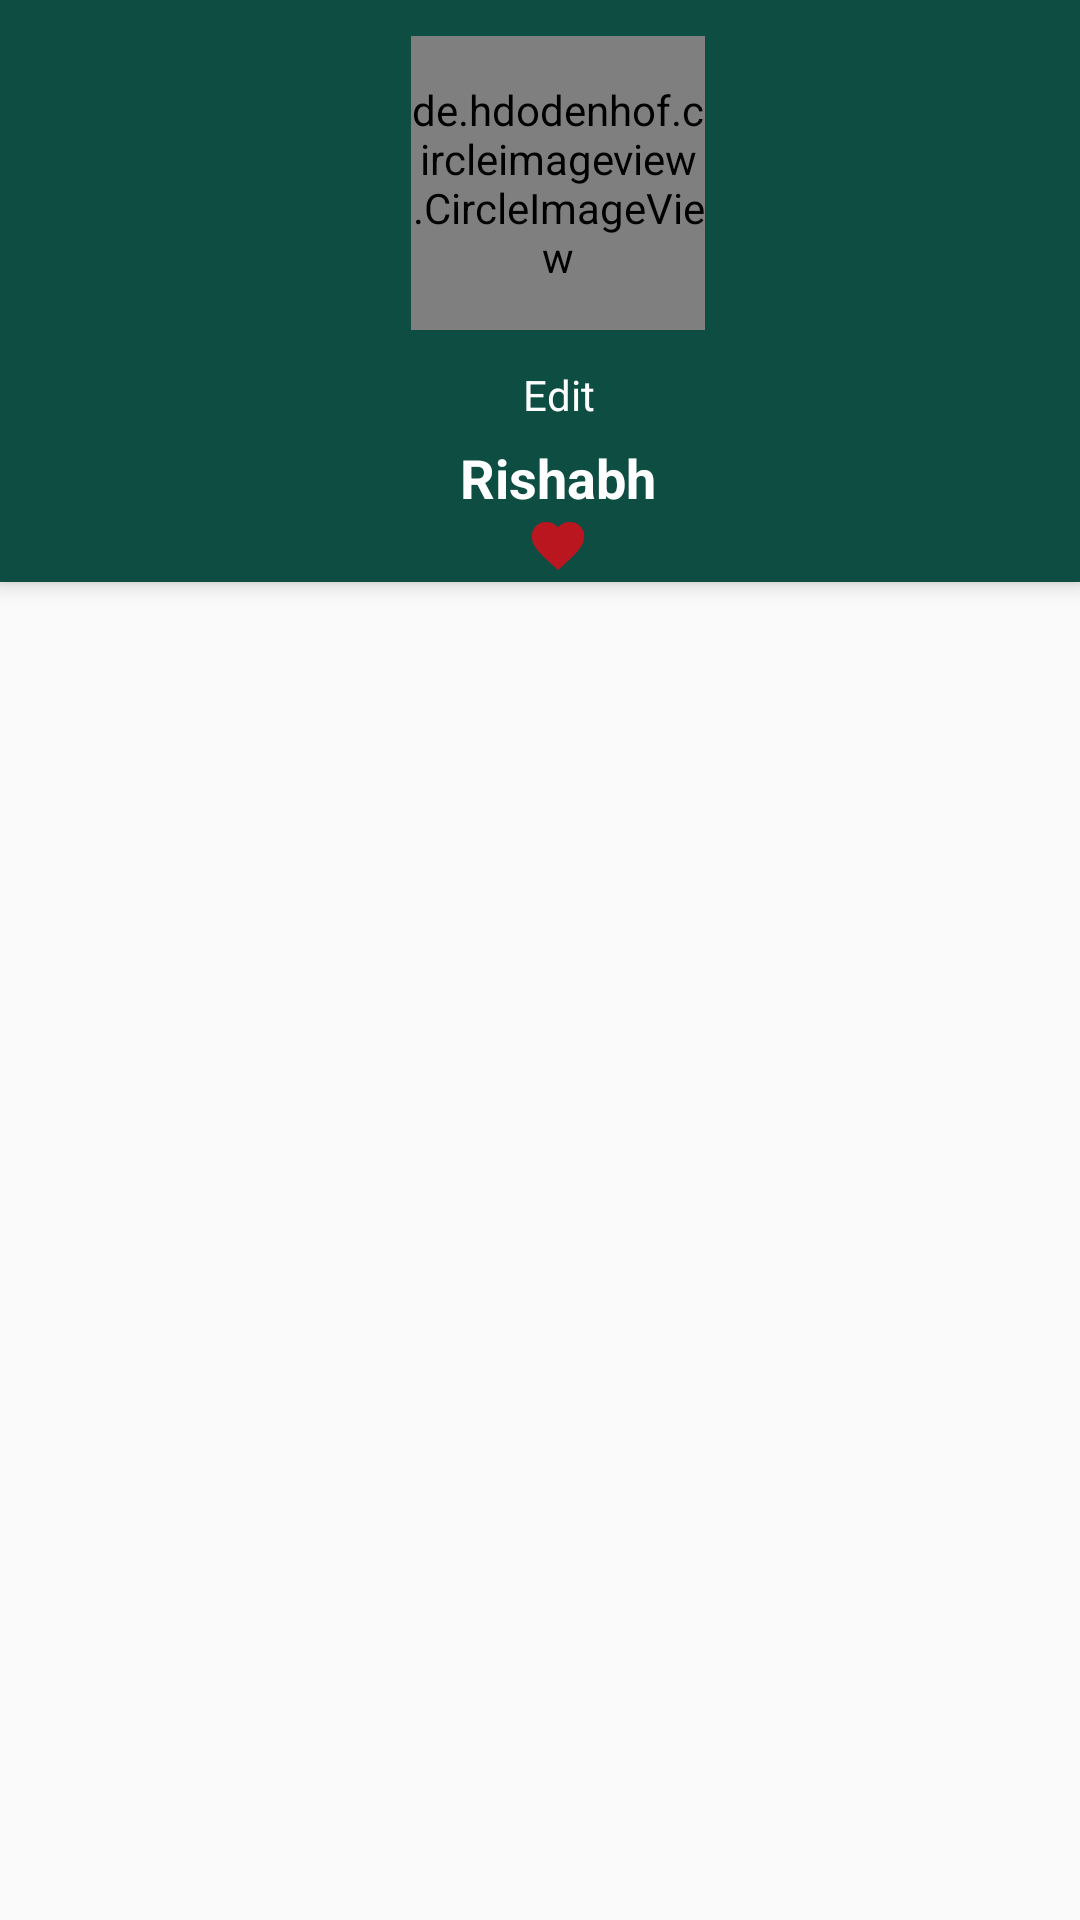

Point at icon controls on the screen. Image size 1080px x 1920px, points as [x,y].
like: [558,546]
